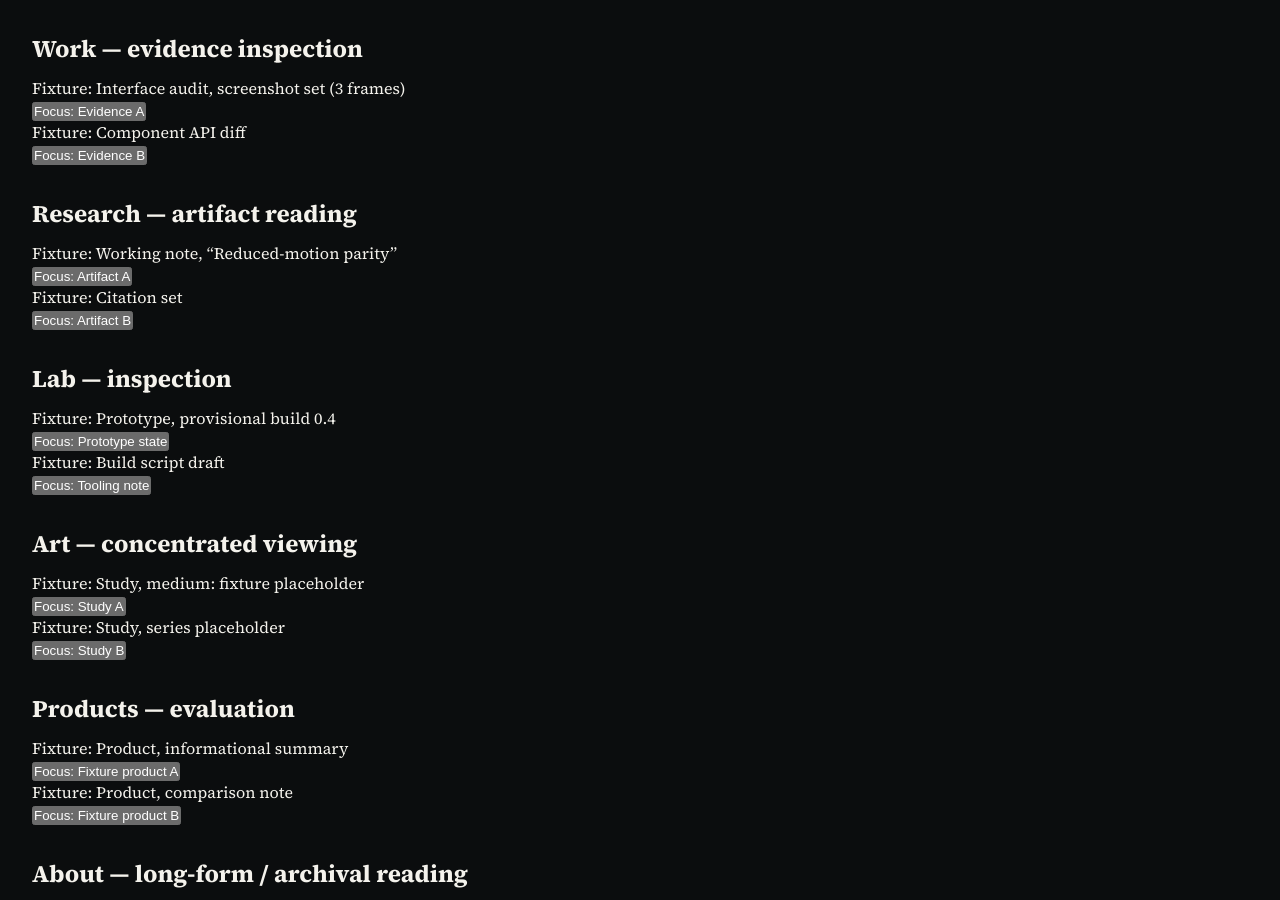
Test case: FocusFixture (M4.4 §A11 — all six semantic contexts) › each context opens/closes through the identical mechanism — same control, same detail-reveal lifecycle
The image size is (1280, 900).
Click the button "Focus: Study A" at (79, 606), box [32,597,126,616]
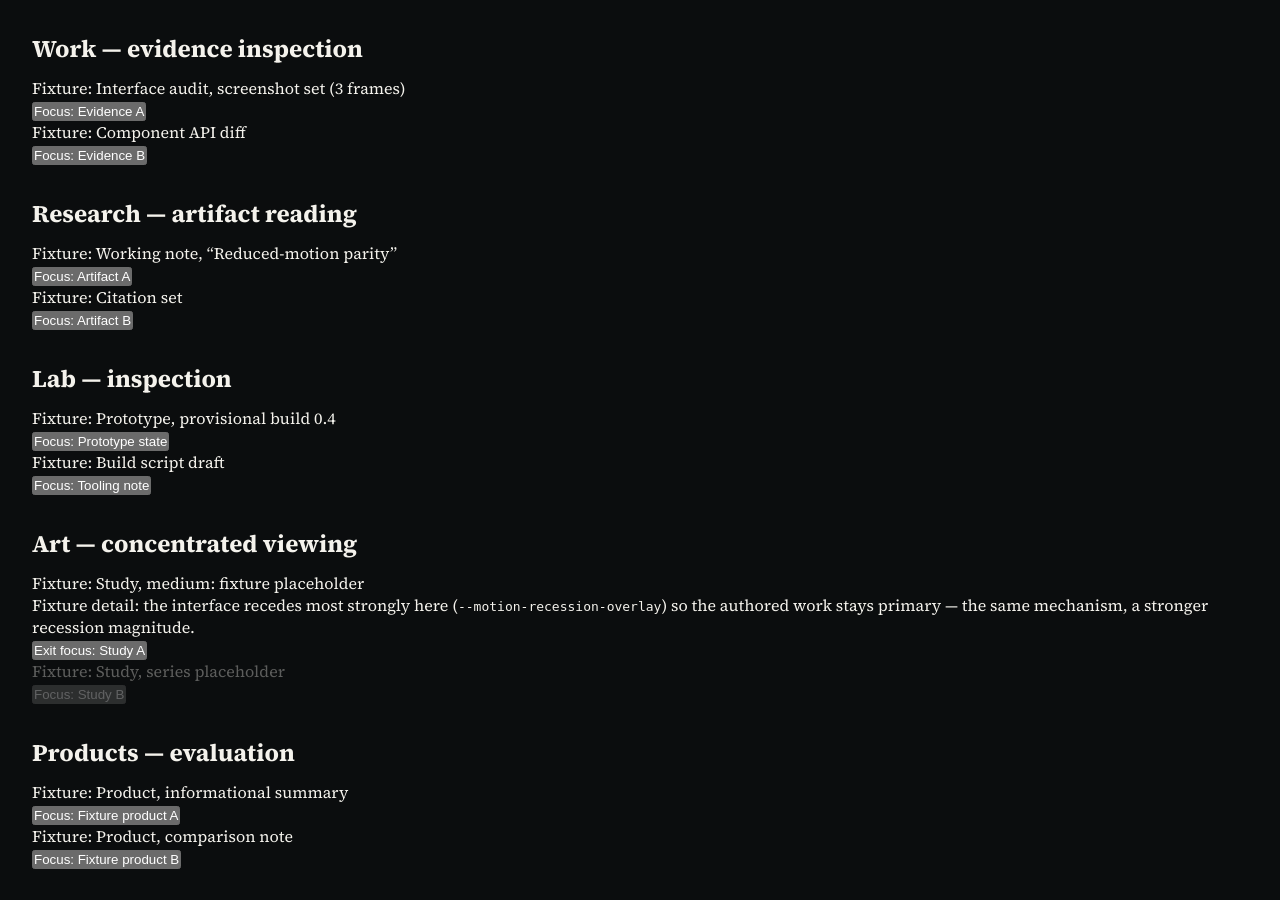
Result: the text "interface recedes most strongly here" is shown at [32,594,458,616]
Result: the button "Exit focus: Study A" is shown
Click the button "Exit focus: Study A" at (90, 650), box [32,641,147,660]
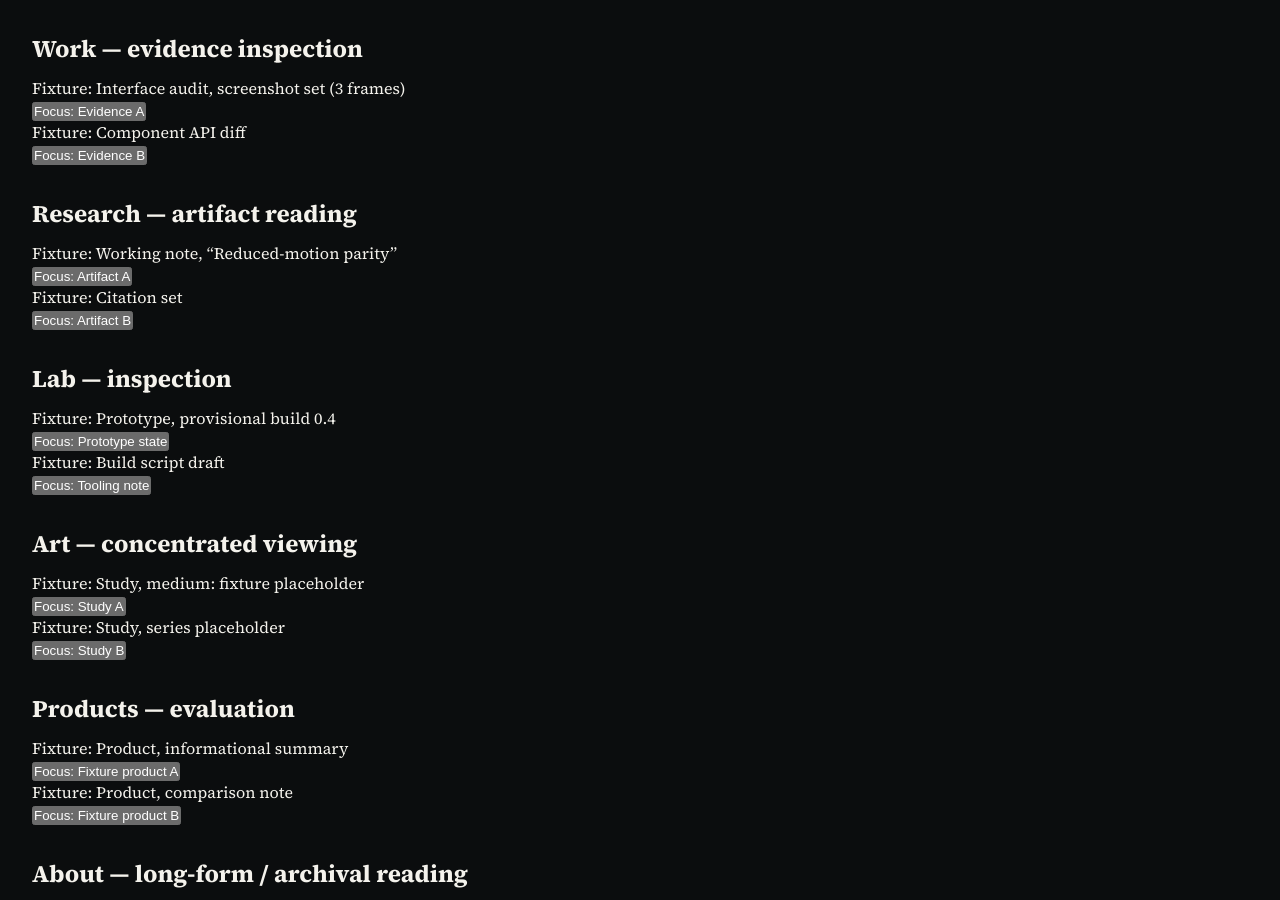
Result: the text "interface recedes most strongly here" is gone
